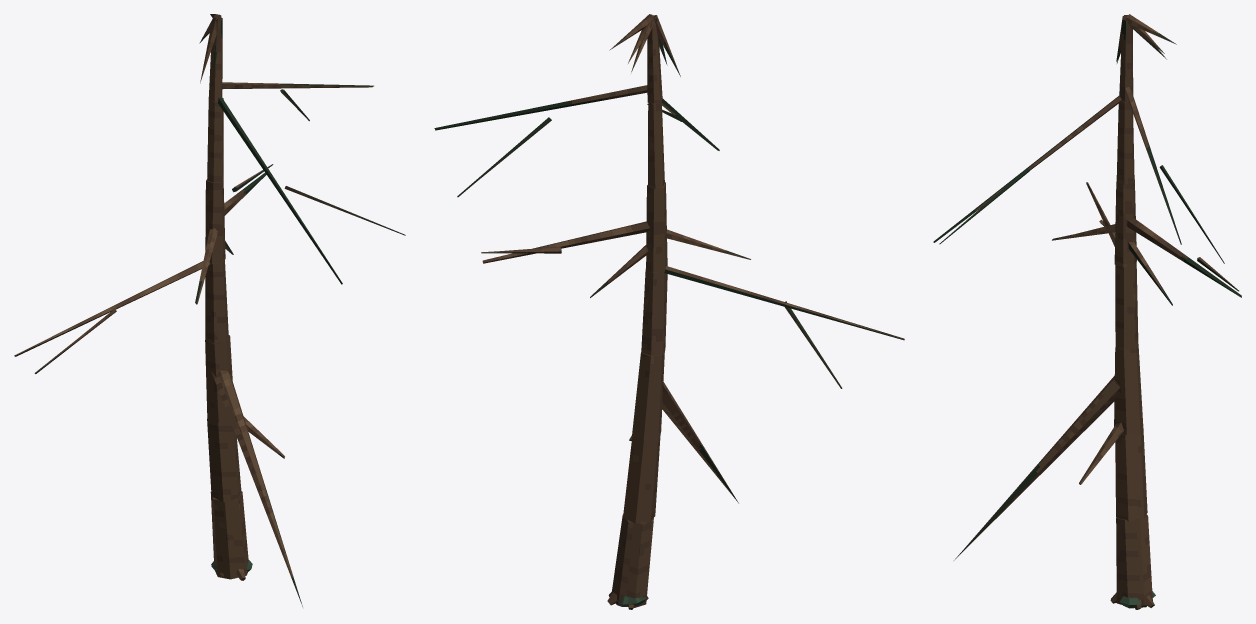
Rendered from snag_01.glb.
3 renders of one model, left to right at view 1: azimuth 30°, elevation 25°; view 2: azimuth 150°, elevation 25°; view 3: azimuth 270°, elevation 25°, orthographic. The views are drawn at different scales.
Visible parts, largest first — view 1: snag_01; view 2: snag_01; view 3: snag_01.
Boxes of the visible parts, left/top/right/bottom form: snag_01: left=14, top=14, right=405, bottom=606; snag_01: left=434, top=14, right=904, bottom=609; snag_01: left=933, top=14, right=1241, bottom=609.
Bounding box in the file's own units: 3.39 × 4.54 × 2.18.
Materials: 2 (2 with a texture image).
